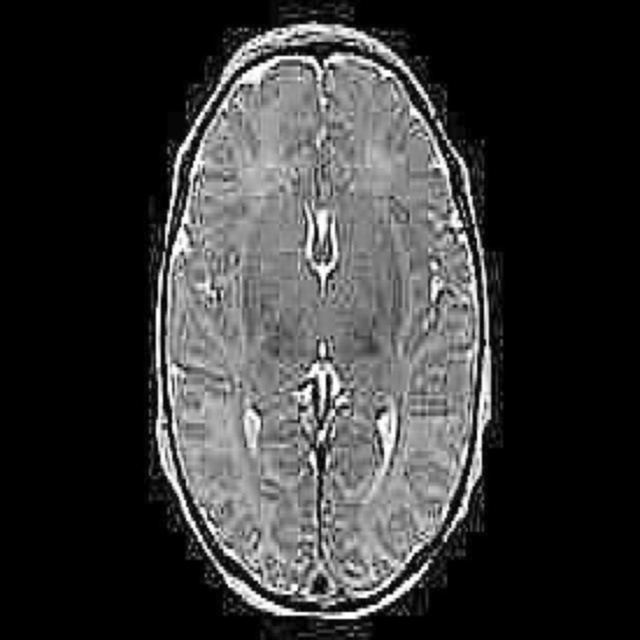glioma tumor: (203, 94, 442, 574)
